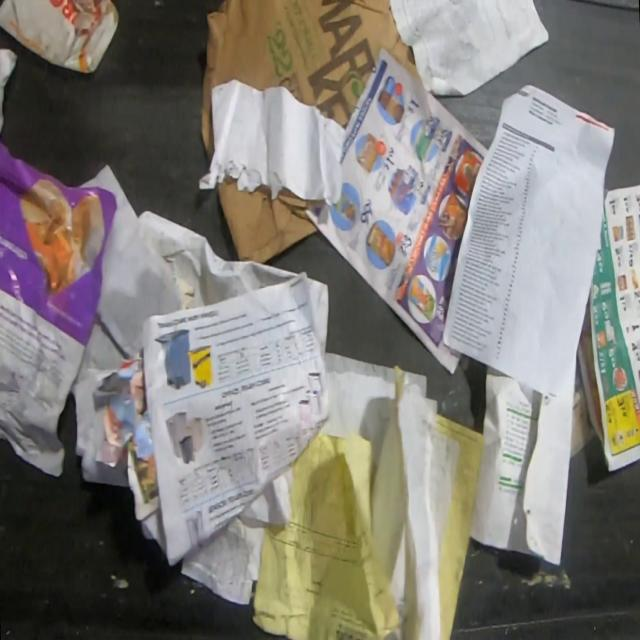cardboard: (199, 0, 424, 161), (216, 173, 320, 264), (0, 0, 121, 70)
